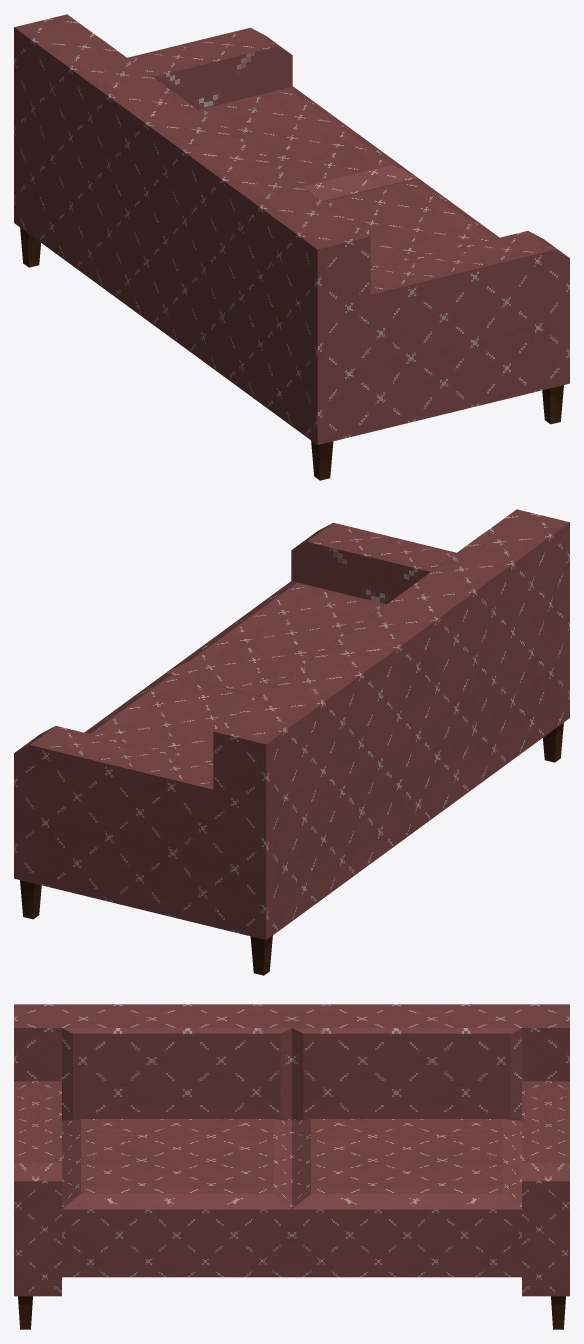
The model's file is Model_Couch.glb.
3 renders of one model, top to bottom at view 1: azimuth 30°, elevation 25°; view 2: azimuth 150°, elevation 25°; view 3: azimuth 270°, elevation 25°, orthographic. The views are drawn at different scales.
Visible parts, largest first — view 1: Model_Couch; view 2: Model_Couch; view 3: Model_Couch.
Part boxes in pixels (box(x1,y1,x2,y2)): Model_Couch: box(14, 14, 569, 480); Model_Couch: box(14, 509, 569, 975); Model_Couch: box(14, 1004, 569, 1329).
Size of the model in its own units: 0.96 by 0.8543 by 2.
2 materials, 2 textured.
